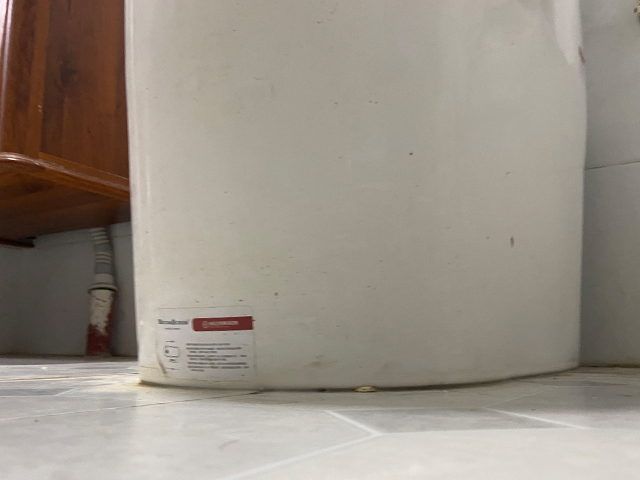closestool: (122, 1, 591, 394)
